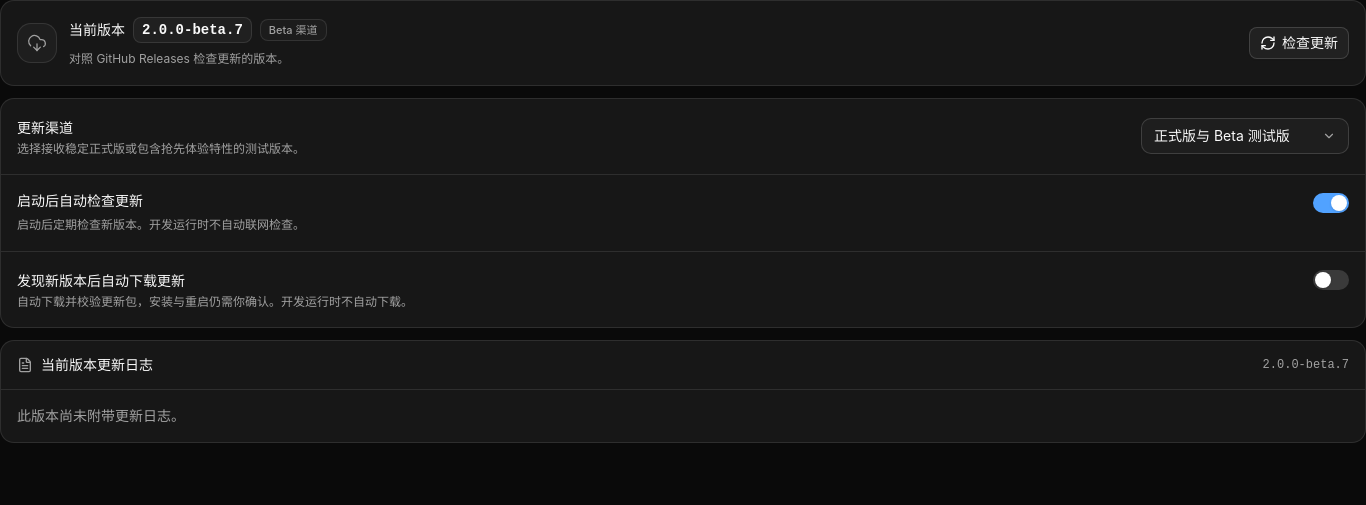
Test case: 自动检查保存失败时反馈错误并保留原值
What coordinates should you click on to do the following:
click the switch named "启动后自动检查更新"
I would click on:
 (1331, 203)
Its box is [1313,193,1349,213].
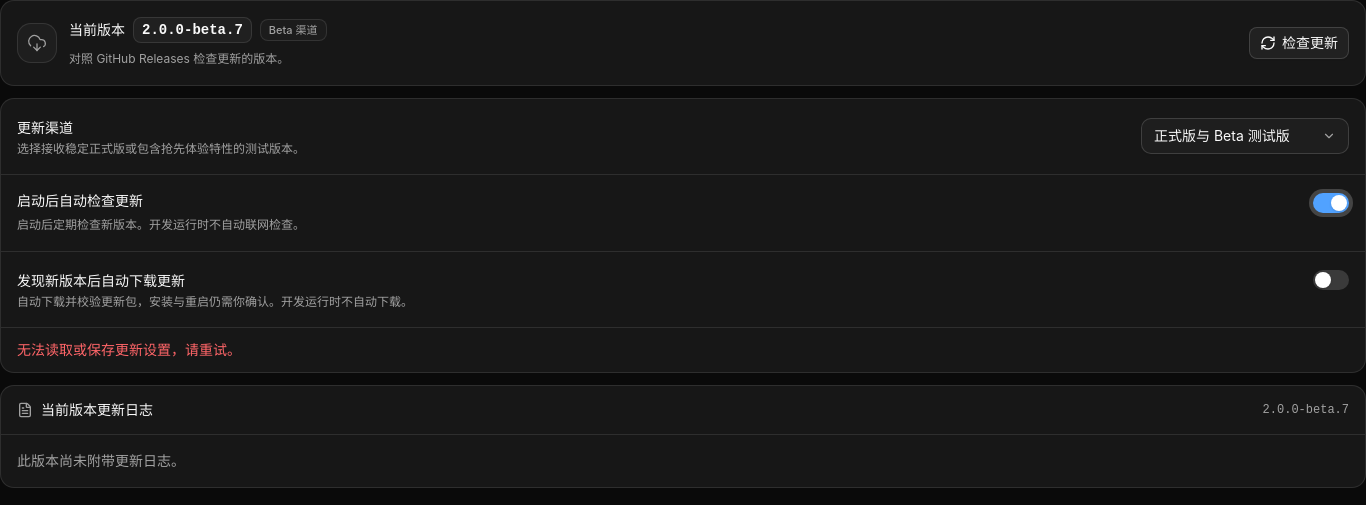
Expected: the message reads "无法读取或保存更新设置，请重试。", [17,341,241,358]
